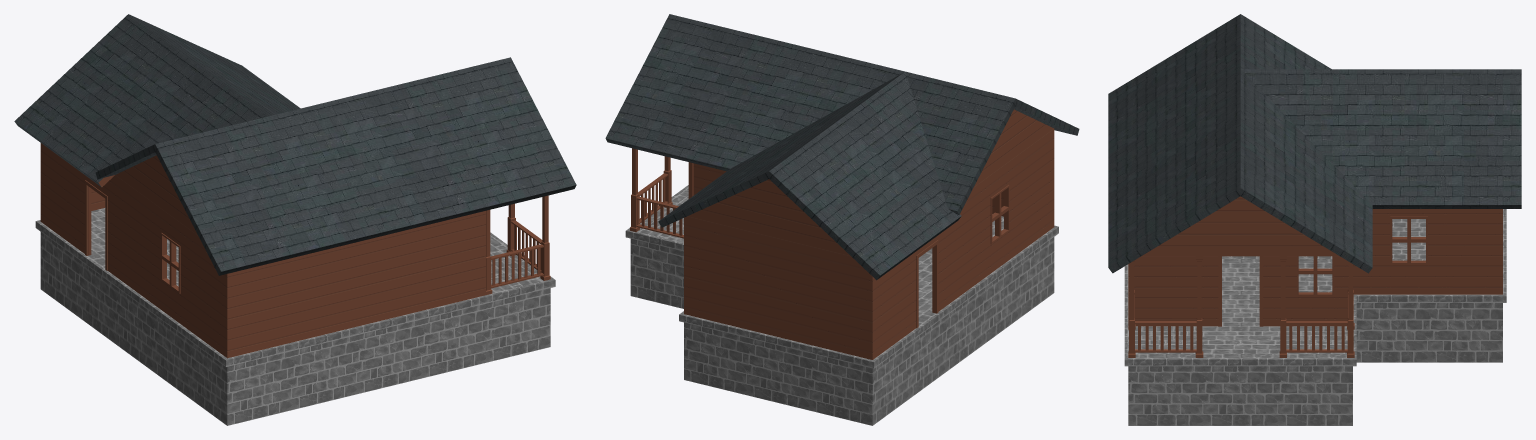
File: House_02.fbx
3 views of the same model, side by side, from view 1: azimuth 30°, elevation 25°; view 2: azimuth 150°, elevation 25°; view 3: azimuth 270°, elevation 25° (orthographic). The views are drawn at different scales.
Parts seen in each view (by area): view 1: Door 2x3.017; view 2: Door 2x3.017; view 3: Door 2x3.017.
Boxes of the visible parts, left/top/right/bottom form: Door 2x3.017: left=14, top=14, right=576, bottom=425; Door 2x3.017: left=605, top=14, right=1079, bottom=425; Door 2x3.017: left=1108, top=14, right=1521, bottom=425.
Bounding box in the file's own units: 1103 × 724 × 1103.
3 materials, 3 textured.
